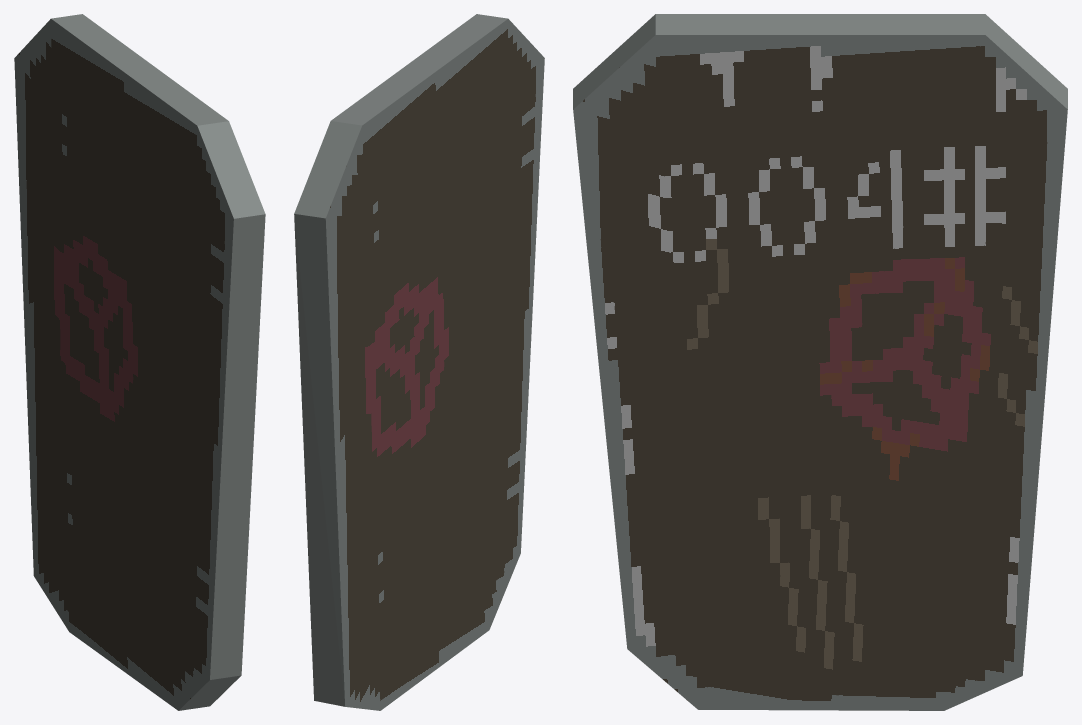
The model's file is subdoor.glb.
3 views of the same model, side by side, from view 1: azimuth 30°, elevation 25°; view 2: azimuth 150°, elevation 25°; view 3: azimuth 270°, elevation 25° (orthographic). The views are drawn at different scales.
Parts seen in each view (by area): view 1: Mesh_0.026; view 2: Mesh_0.026; view 3: Mesh_0.026.
Part boxes in pixels (x1,y1,x2,y2): Mesh_0.026: (14,14,265,710); Mesh_0.026: (294,14,544,710); Mesh_0.026: (573,14,1067,710).
Bounding box in the file's own units: 0.25 × 4.55 × 3.
1 material, 1 textured.
